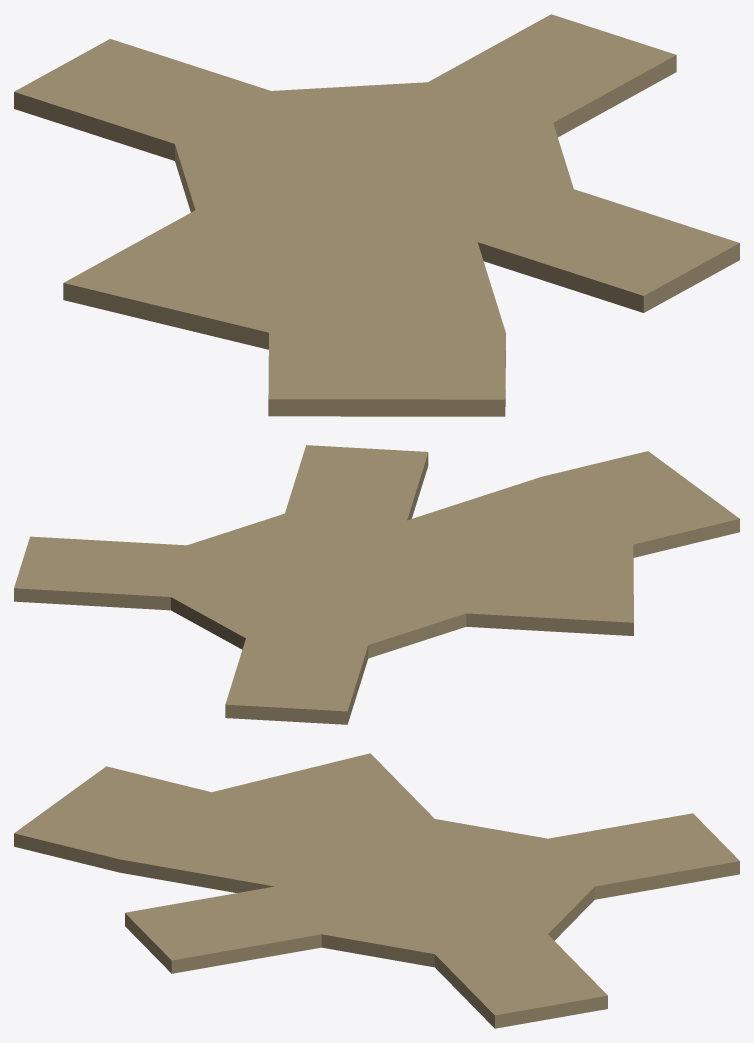
File: Gluttony_SpillOne.fbx
3 renders of one model, top to bottom at view 1: azimuth 30°, elevation 25°; view 2: azimuth 150°, elevation 25°; view 3: azimuth 270°, elevation 25°, orthographic. The views are drawn at different scales.
Parts seen in each view (by area): view 1: Spill; view 2: Spill; view 3: Spill.
Boxes of the visible parts, x1=… form: Spill: x1=14, y1=14, x2=739, y2=416; Spill: x1=14, y1=445, x2=739, y2=724; Spill: x1=14, y1=753, x2=739, y2=1028.
Size of the model in its own units: 0.8339 by 0.0197 by 0.9756.
